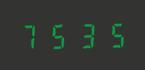five: (45, 20, 71, 50), (99, 19, 125, 49)
seven: (18, 20, 44, 50)
three: (72, 19, 98, 49)
